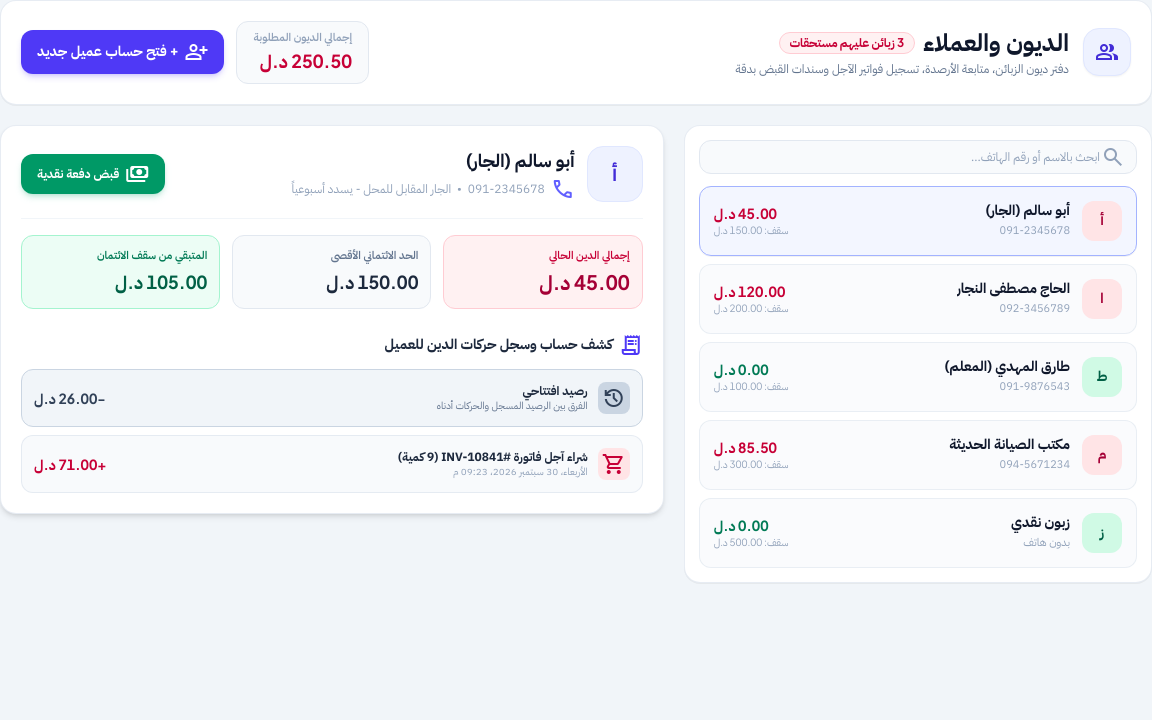
Test: DebtsView - customer statement › lists only debt sales, so a cash sale with a customer is not shown as credit
This screenshot has width=1152, height=720.
Click the text "زبون نقدي" at {"x": 1040, "y": 523}, box [1011, 513, 1070, 533]
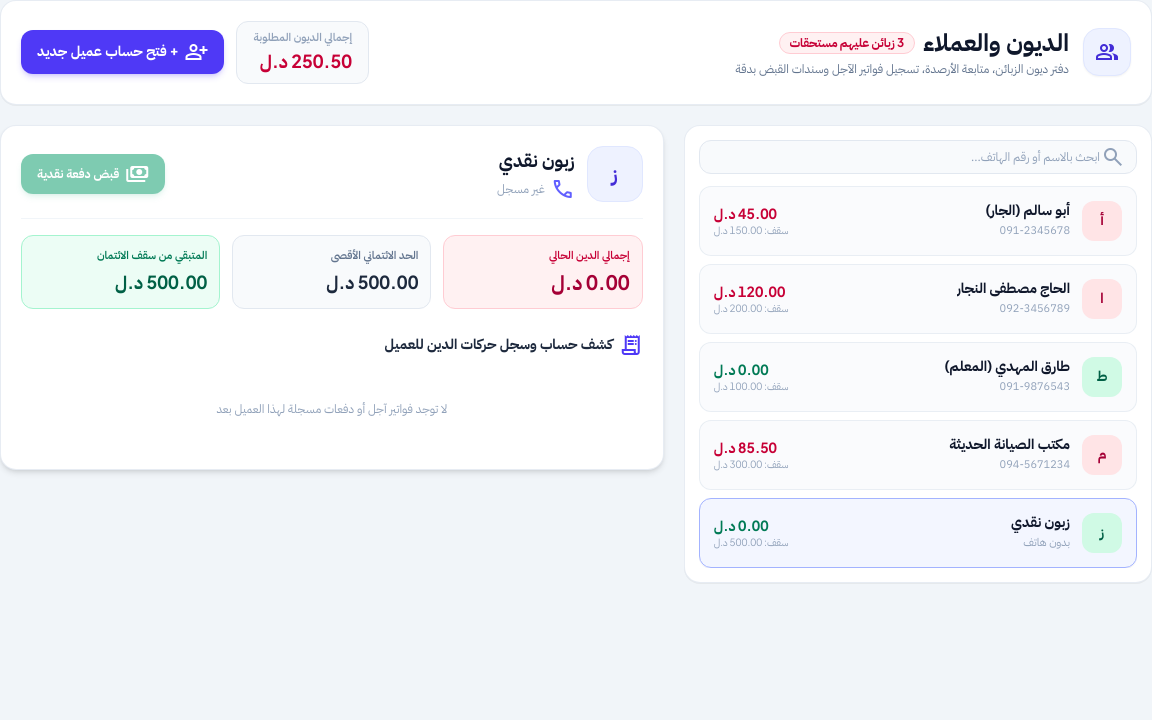
Expected: the text "لا توجد فواتير آجل أو دفعات مسجلة لهذا العميل بعد" is shown, [216, 400, 447, 418]
